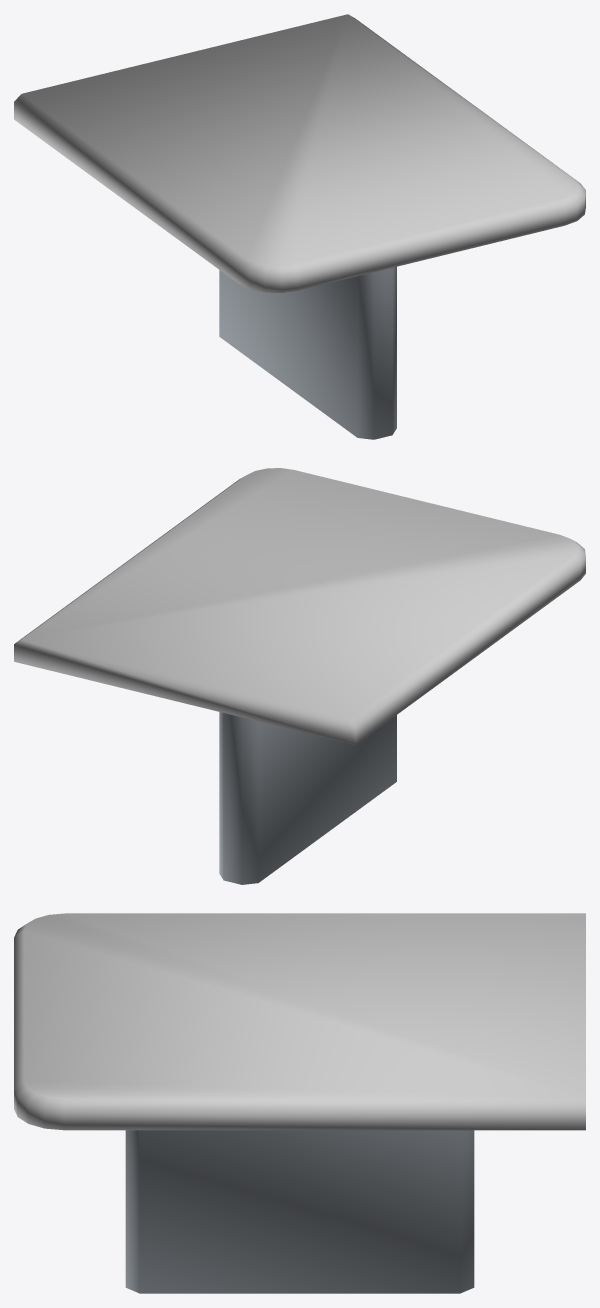
File: Loca-Table-1.fbx
The picture shows the model from 3 angles, top to bottom: view 1: azimuth 30°, elevation 25°; view 2: azimuth 150°, elevation 25°; view 3: azimuth 270°, elevation 25°; orthographic projection. The views are drawn at different scales.
Visible parts, largest first — view 1: Loca-Table-1; view 2: Loca-Table-1; view 3: Loca-Table-1.
Boxes of the visible parts, <box> form: Loca-Table-1: <box>14,14,585,439</box>; Loca-Table-1: <box>14,468,585,884</box>; Loca-Table-1: <box>14,913,585,1293</box>.
Bounding box in the file's own units: 1.2 × 0.8 × 1.5.
